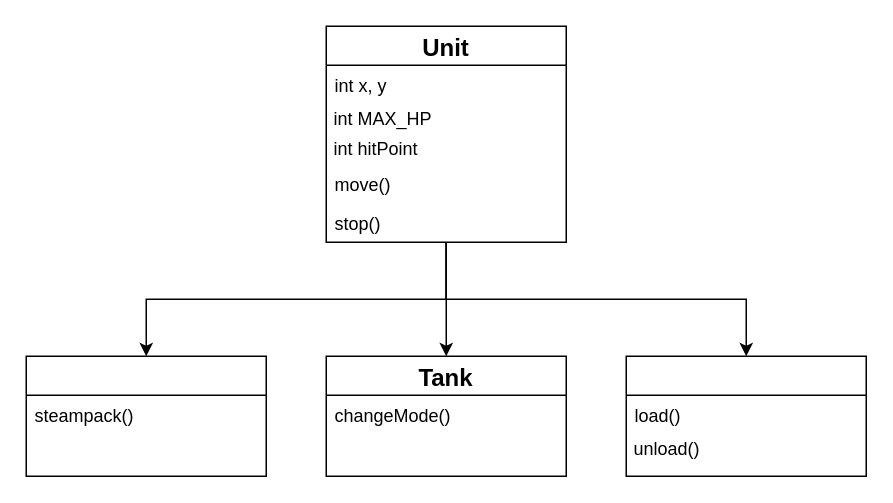
Some shapes in this 893 by 503 pixel diagram are drawn without their labels. Here are the shapes that lost their labels. From the top down, the box of each, then its label:
(25, 355, 266, 476): Marine
(625, 355, 866, 476): Dropship
